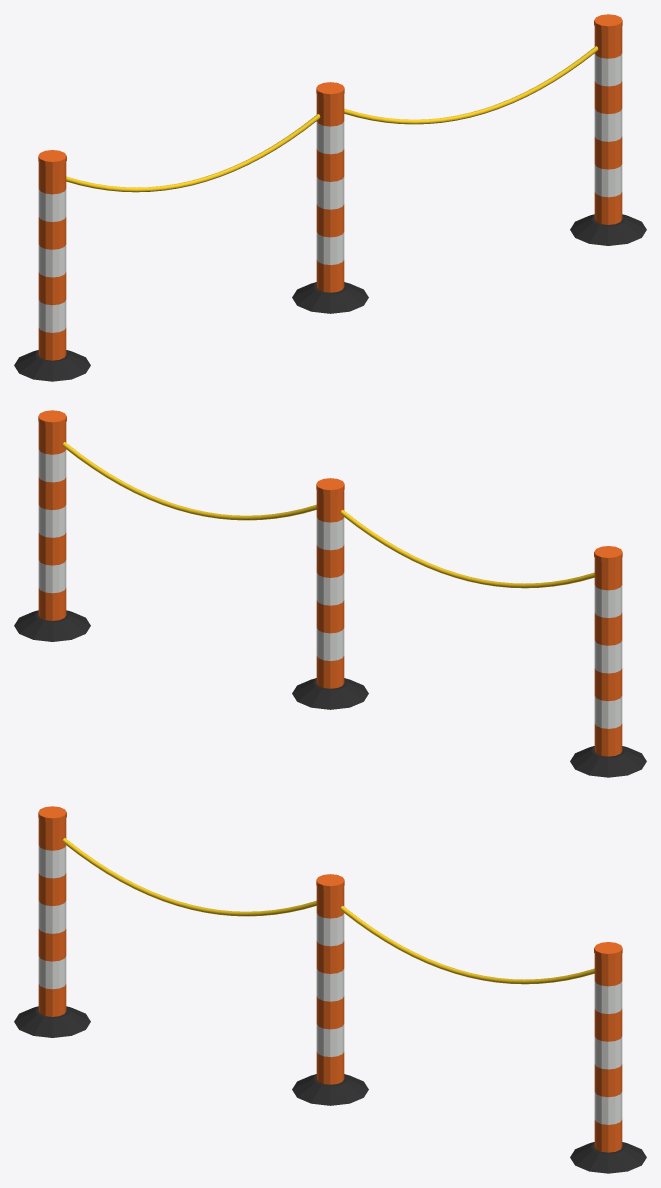
Rendered from bollards.glb.
The picture shows the model from 3 angles, top to bottom: view 1: azimuth 30°, elevation 25°; view 2: azimuth 150°, elevation 25°; view 3: azimuth 330°, elevation 25°; orthographic projection.
Visible parts, largest first — view 1: Bollard_02_RubberBase, Bollard_03_RubberBase, Bollard_01_RubberBase, Yellow_Rope_02, Yellow_Rope_01, Bollard_01_Band_04, Bollard_03_Band_03, Bollard_03_Band_06, Bollard_02_Band_05, Bollard_02_Band_03, Bollard_03_Band_01, Bollard_01_Band_01 (+14 smaller); view 2: Bollard_02_RubberBase, Bollard_03_RubberBase, Bollard_01_RubberBase, Yellow_Rope_02, Yellow_Rope_01, Bollard_01_Band_04, Bollard_03_Band_03, Bollard_03_Band_06, Bollard_02_Band_05, Bollard_02_Band_03, Bollard_03_Band_01, Bollard_01_Band_01 (+14 smaller); view 3: Bollard_02_RubberBase, Bollard_01_RubberBase, Bollard_03_RubberBase, Yellow_Rope_01, Yellow_Rope_02, Bollard_03_Band_04, Bollard_01_Band_03, Bollard_01_Band_06, Bollard_02_Band_05, Bollard_01_Band_01, Bollard_02_Band_03, Bollard_01_Band_04 (+14 smaller).
Part boxes in pixels (x1,y1,x2,y2): Bollard_02_RubberBase: (292,282,368,313); Bollard_03_RubberBase: (570,214,646,245); Bollard_01_RubberBase: (14,350,90,381); Yellow_Rope_02: (344,46,598,124); Yellow_Rope_01: (66,114,320,192); Bollard_01_Band_04: (38,244,66,277); Bollard_03_Band_03: (594,136,622,169); Bollard_03_Band_06: (594,53,622,86); Bollard_02_Band_05: (316,149,344,181); Bollard_02_Band_03: (316,204,344,237); Bollard_03_Band_01: (594,192,622,224); Bollard_01_Band_01: (38,327,66,360); Bollard_02_RubberBase: (292,678,368,709); Bollard_03_RubberBase: (14,610,90,641); Bollard_01_RubberBase: (570,746,646,777); Yellow_Rope_02: (62,442,316,520); Yellow_Rope_01: (340,510,594,588); Bollard_01_Band_04: (594,640,622,673); Bollard_03_Band_03: (38,532,66,565); Bollard_03_Band_06: (38,449,66,482); Bollard_02_Band_05: (316,545,344,577); Bollard_02_Band_03: (316,600,344,633); Bollard_03_Band_01: (38,588,66,620); Bollard_01_Band_01: (594,723,622,756); Bollard_02_RubberBase: (292,1074,368,1105); Bollard_01_RubberBase: (14,1006,90,1037); Bollard_03_RubberBase: (570,1142,646,1173); Yellow_Rope_01: (62,838,316,916); Yellow_Rope_02: (340,906,594,984); Bollard_03_Band_04: (594,1036,622,1069); Bollard_01_Band_03: (38,928,66,961); Bollard_01_Band_06: (38,845,66,878); Bollard_02_Band_05: (316,941,344,973); Bollard_01_Band_01: (38,984,66,1016); Bollard_02_Band_03: (316,996,344,1029); Bollard_01_Band_04: (38,901,66,933).
Size of the model in its own units: 3.36 by 1.08 by 0.36.
